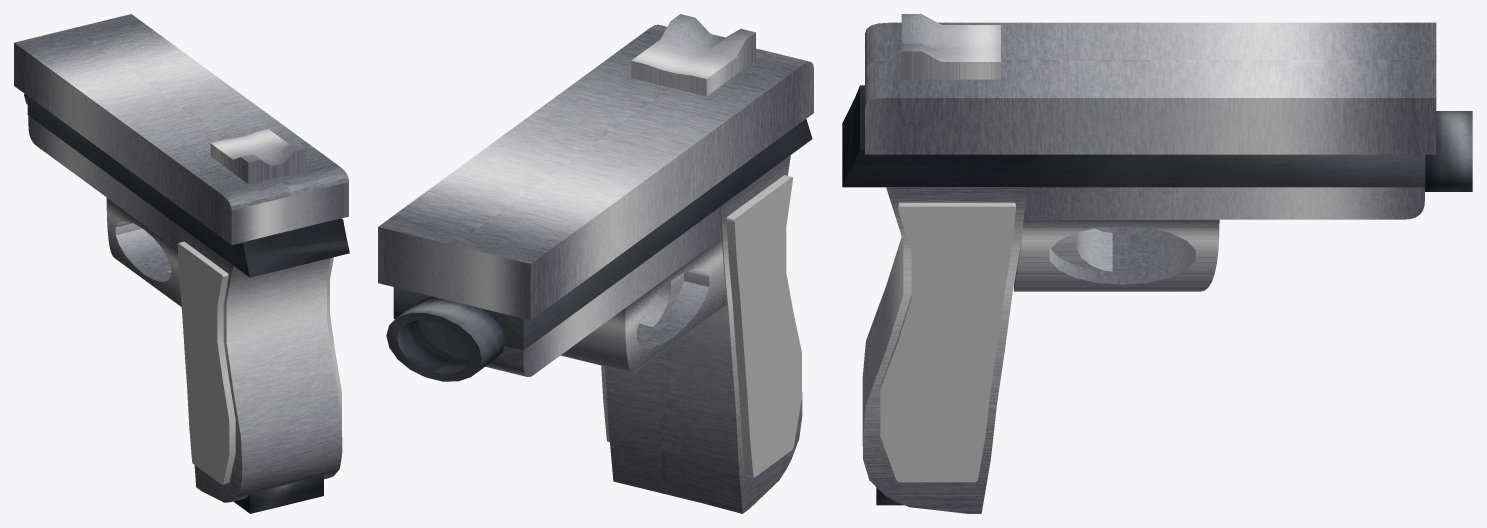
File: Pistol.fbx
The picture shows the model from 3 angles, left to right: view 1: azimuth 30°, elevation 25°; view 2: azimuth 150°, elevation 25°; view 3: azimuth 270°, elevation 25°; orthographic projection. The views are drawn at different scales.
Parts seen in each view (by area): view 1: Box017, Box001, Box014, Box002, Box007, Box005, Box016, Box015, Box010; view 2: Box017, Box001, Box014, Box002, Box007, Box005, Box016, Cylinder001, Object001, er; view 3: Box017, Box010, Box002, Box001, Box005, Box007, Box016, Cylinder001, er.
Boxes of the visible parts, x1,y1,x2,y2 form: Box017: (14,14,348,244); Box001: (179,226,342,502); Box014: (177,241,235,484); Box002: (27,96,349,277); Box007: (106,198,181,306); Box005: (28,116,180,248); Box016: (210,129,306,183); Box015: (233,475,323,513); Box010: (327,257,341,428); Box017: (378,24,813,320); Box001: (605,155,802,513); Box014: (726,175,801,477); Box002: (393,119,812,350); Box007: (560,237,726,372); Box005: (394,207,721,376); Box016: (631,14,755,96); Cylinder001: (386,296,505,381); Object001: (419,320,471,357); er: (639,273,683,326); Box017: (865,22,1436,154); Box010: (880,202,1015,482); Box002: (842,85,1425,187); Box001: (862,187,1027,513); Box005: (1024,187,1424,219); Box007: (1014,219,1219,291); Box016: (901,14,1000,79); Cylinder001: (1425,111,1472,191); er: (1051,228,1112,271).
Bounding box in the file's own units: 12.7 × 35.38 × 44.96.
